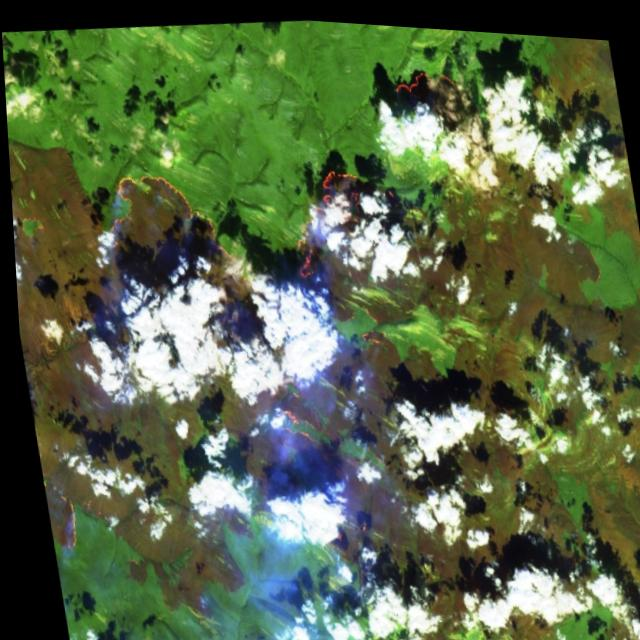fire: (94, 148, 253, 316), (279, 148, 417, 293), (377, 54, 462, 116), (262, 375, 316, 456), (39, 488, 82, 559), (338, 295, 387, 349), (6, 125, 21, 235)
